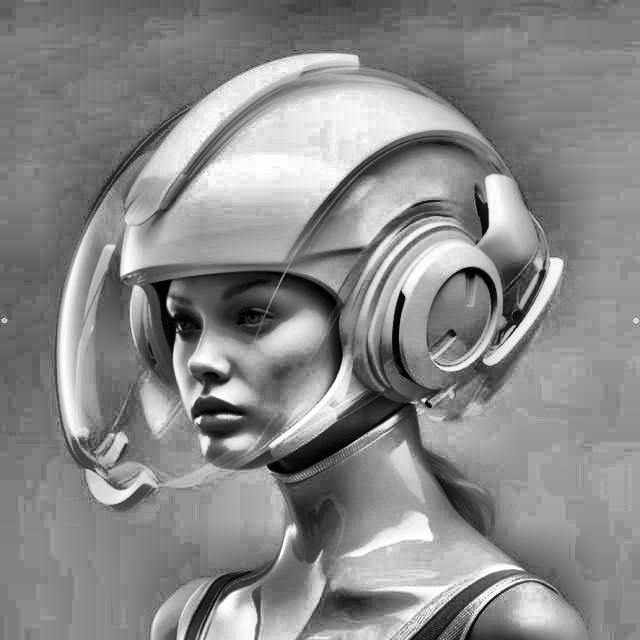Helmet: (42, 43, 570, 520)
